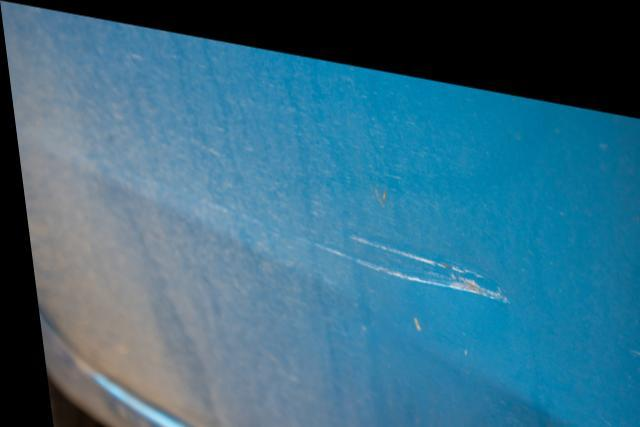scratch: (301, 220, 510, 287)
